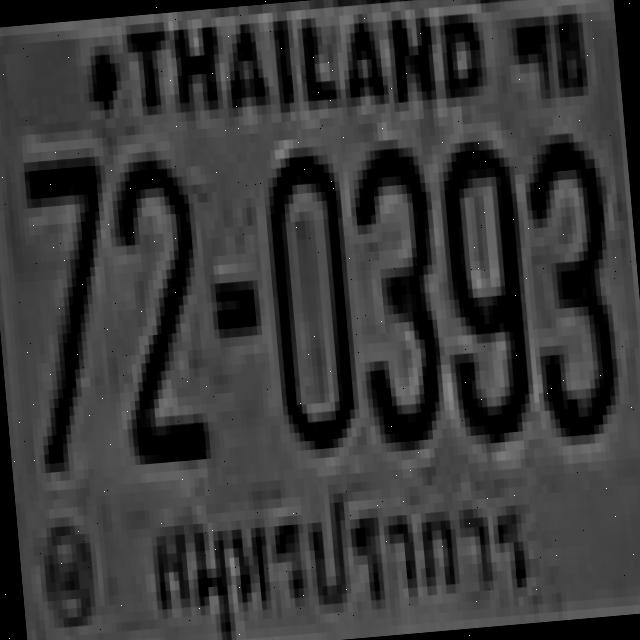0: (255, 136, 356, 442)
2: (104, 144, 210, 460)
3: (344, 137, 446, 444), (518, 126, 620, 433)
7: (18, 148, 120, 464)
9: (430, 130, 532, 436)
SamutPrakan: (129, 456, 547, 640)
